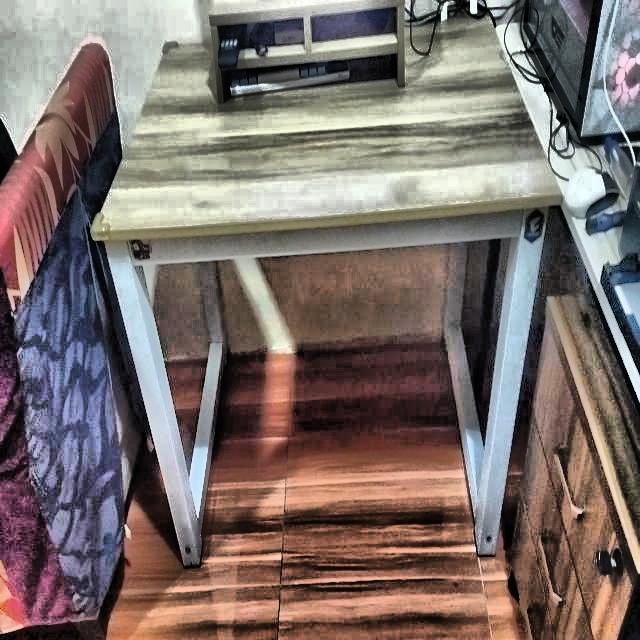mesa: (109, 15, 552, 578)
